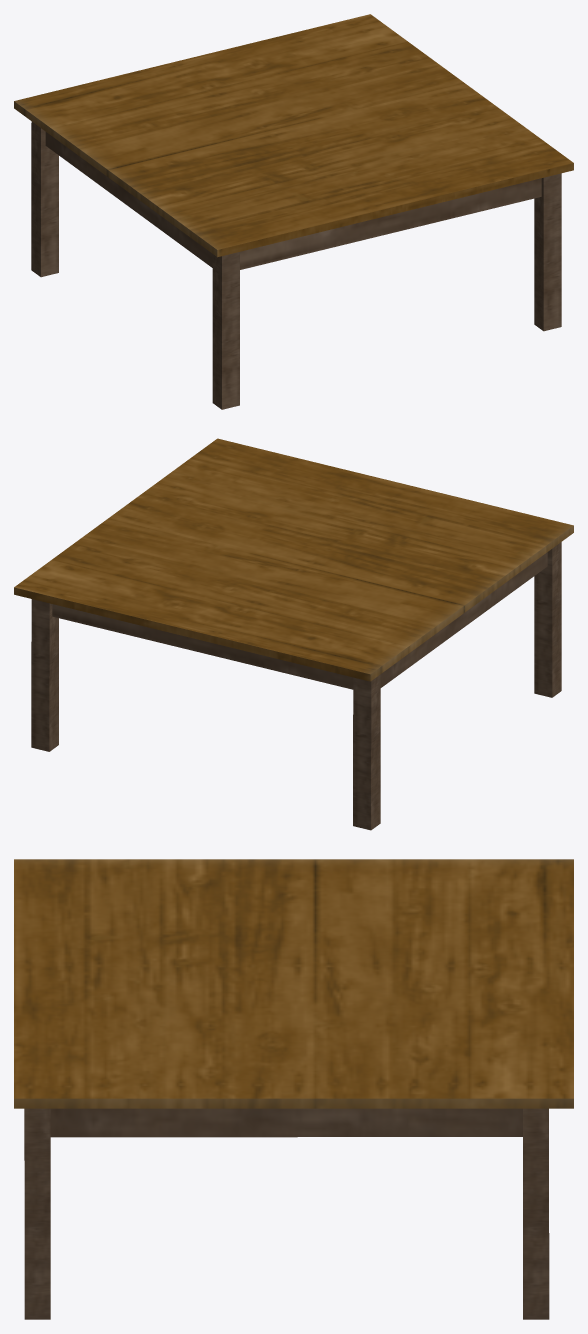
Rendered from table01c.fbx.
3 views of the same model, one above another, from view 1: azimuth 30°, elevation 25°; view 2: azimuth 150°, elevation 25°; view 3: azimuth 270°, elevation 25° (orthographic). The views are drawn at different scales.
Parts seen in each view (by area): view 1: table01c; view 2: table01c; view 3: table01c.
Boxes of the visible parts, box(x1,y1,x2,y2) form: table01c: box(14, 14, 573, 409); table01c: box(14, 438, 573, 830); table01c: box(14, 859, 573, 1319).
Size of the model in its own units: 103 by 45.26 by 101.
